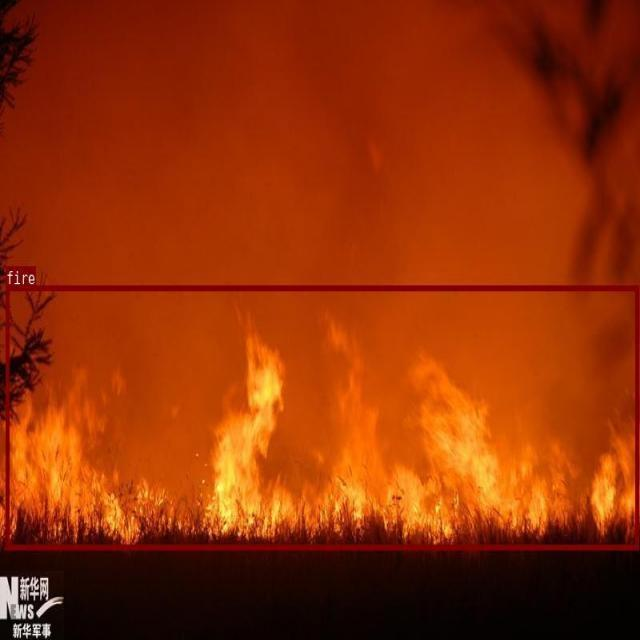fire: (6, 285, 639, 549)
